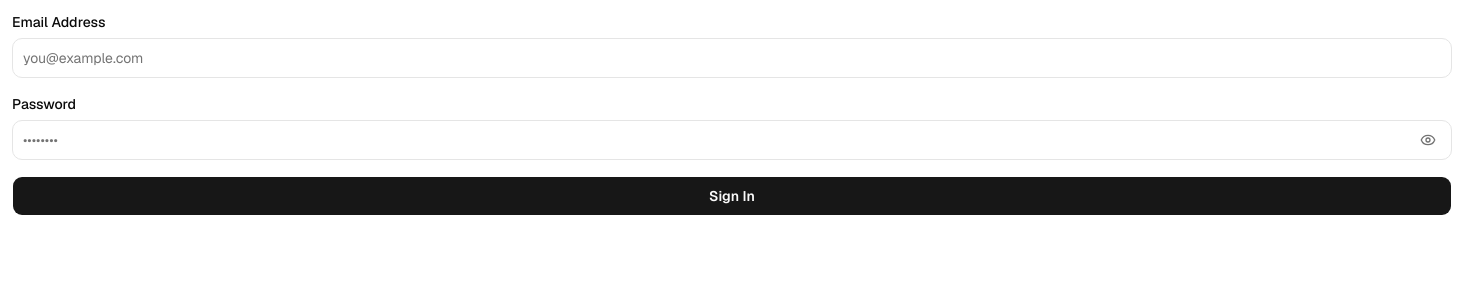
Test: SignInForm Component › displays error message and toast when authentication fails
Step 1. Type "wrong@example.com" into the field labelled "Email Address" → x=732, y=58, box [12,38,1452,78]
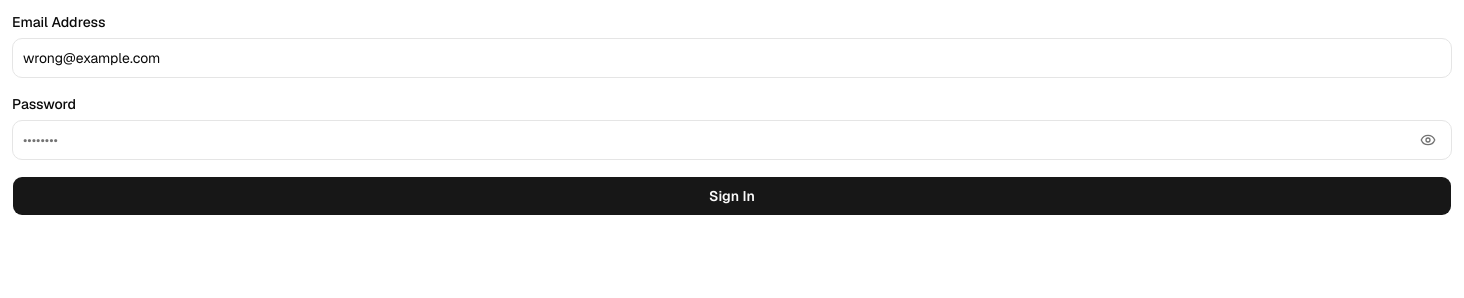
Step 2. Type "WrongPassword" into the password field with placeholder "••••••••" → x=732, y=140, box [12,120,1452,160]
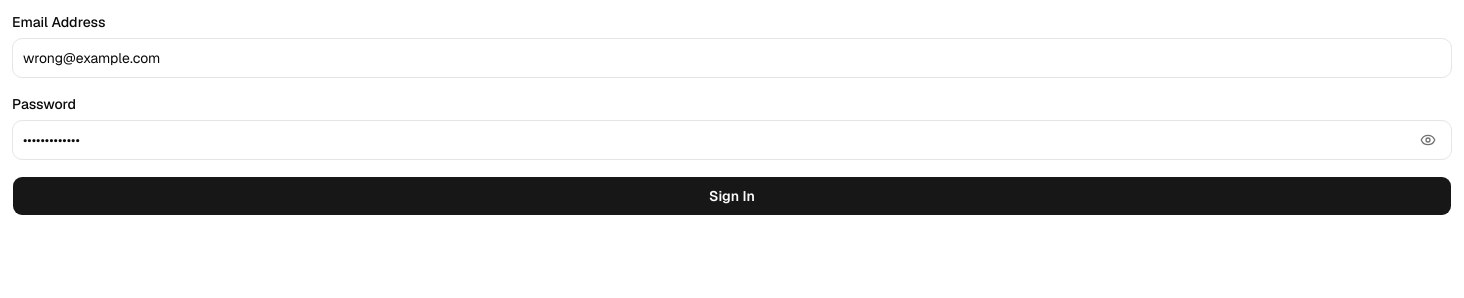
Step 3. Click the button "Sign In" → x=732, y=196, box [12,176,1452,216]
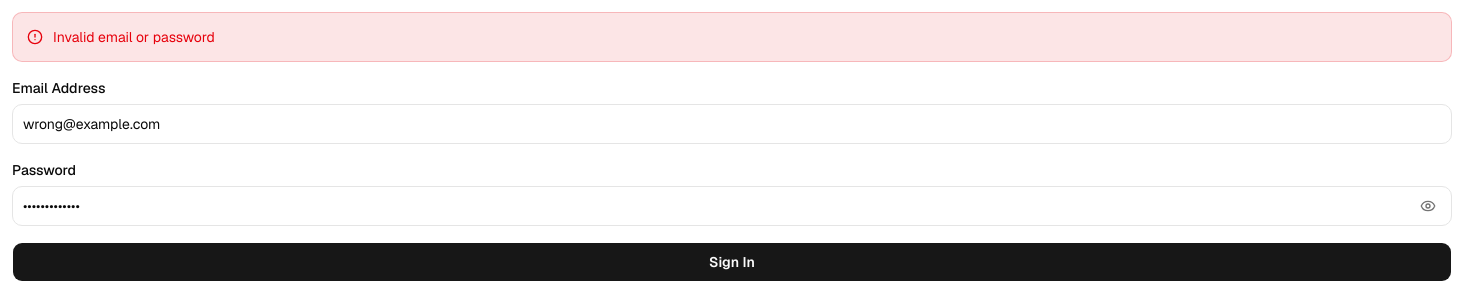
Check: the message reads "Invalid email or password", box [53,28,215,46]
